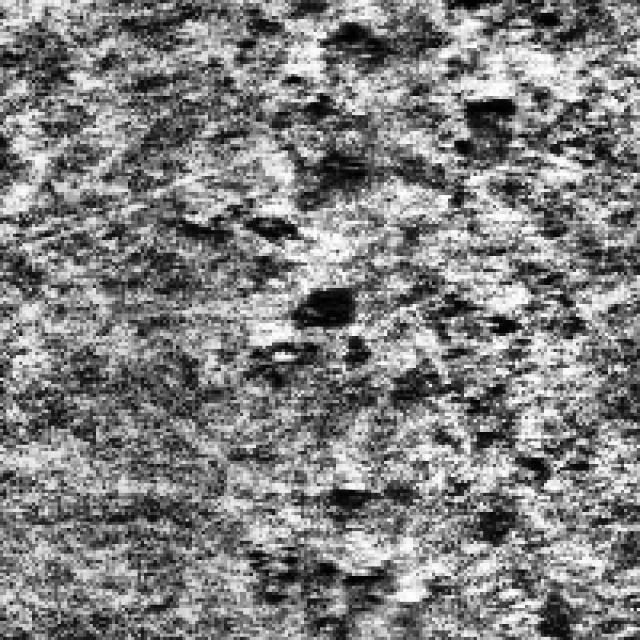Crazing: (230, 467, 448, 634)
